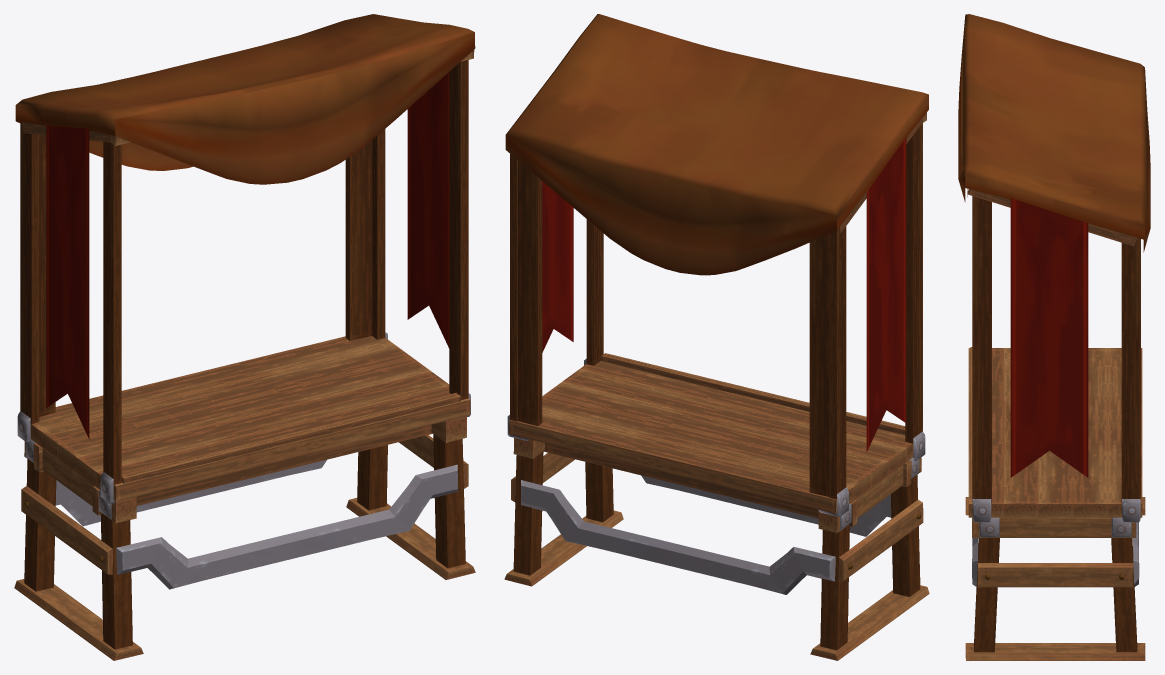
File: stall_empty.glb
3 views of the same model, side by side, from view 1: azimuth 30°, elevation 25°; view 2: azimuth 150°, elevation 25°; view 3: azimuth 270°, elevation 25° (orthographic). The views are drawn at different scales.
Visible parts, largest first — view 1: Stall_Empty; view 2: Stall_Empty; view 3: Stall_Empty.
Boxes of the visible parts, bbox=[...] form: Stall_Empty: bbox=[14, 14, 475, 660]; Stall_Empty: bbox=[504, 14, 929, 660]; Stall_Empty: bbox=[958, 14, 1150, 660].
Size of the model in its own units: 1.84 by 2.63 by 0.9323.
Materials: 3 (3 with a texture image).
